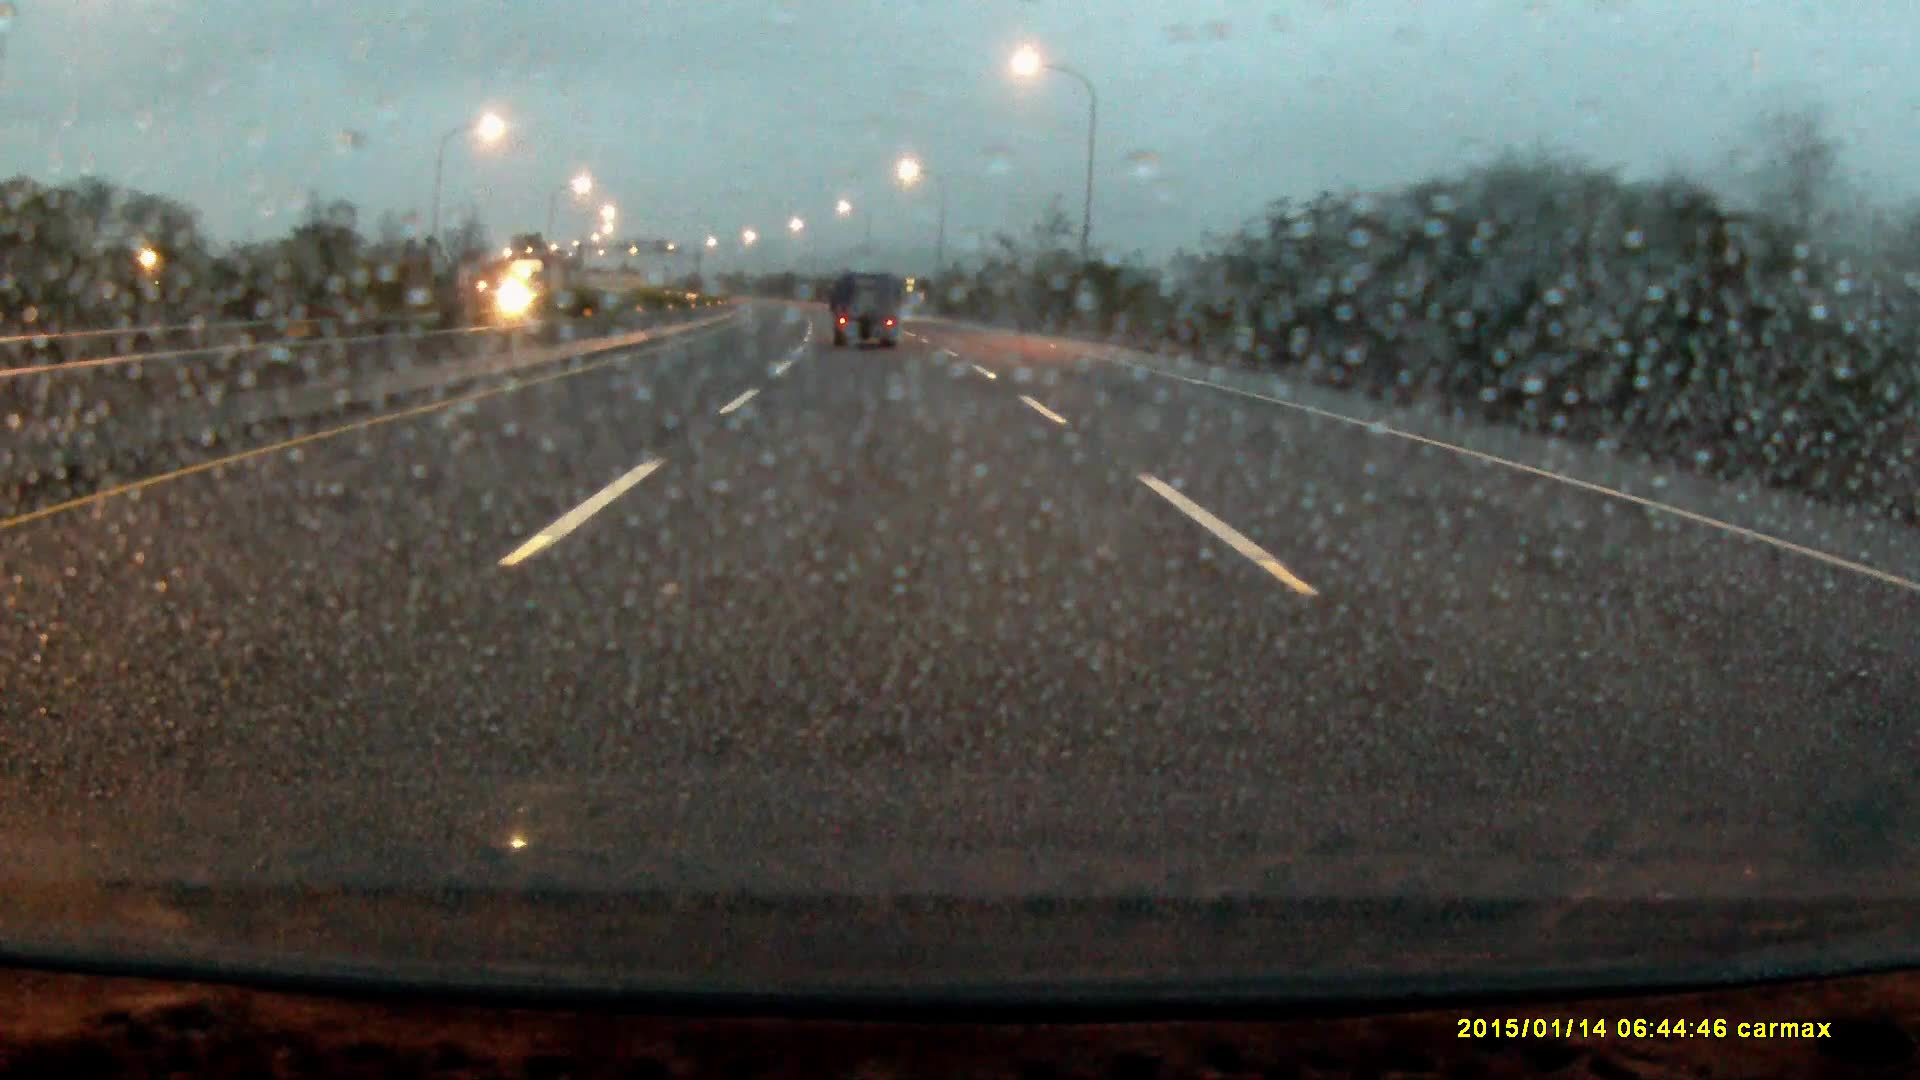vehicle: (495, 255, 585, 327), (833, 272, 903, 351)
